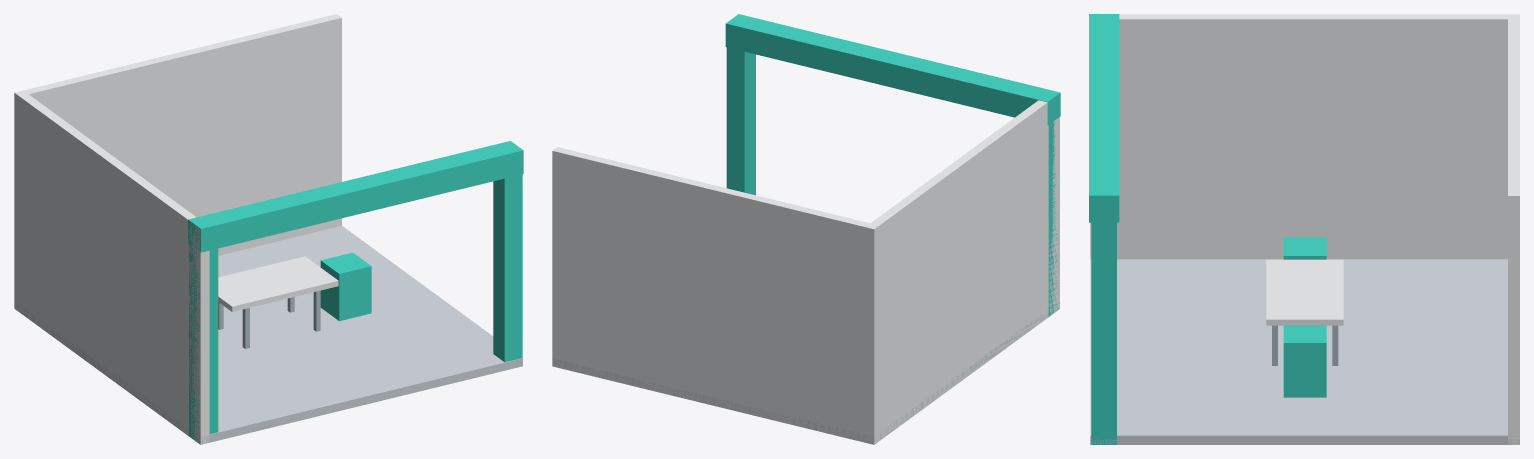
3 views of the same model, side by side, from view 1: azimuth 30°, elevation 25°; view 2: azimuth 150°, elevation 25°; view 3: azimuth 270°, elevation 25° (orthographic). The views are drawn at different scales.
Visible parts, largest first — view 1: Exhibition Booth Concept; view 2: Exhibition Booth Concept; view 3: Exhibition Booth Concept.
Boxes of the visible parts, bbox=[...] form: Exhibition Booth Concept: bbox=[14, 14, 523, 444]; Exhibition Booth Concept: bbox=[552, 14, 1060, 444]; Exhibition Booth Concept: bbox=[1089, 14, 1519, 444].
Bounding box in the file's own units: 5 × 3.2 × 5.02.
